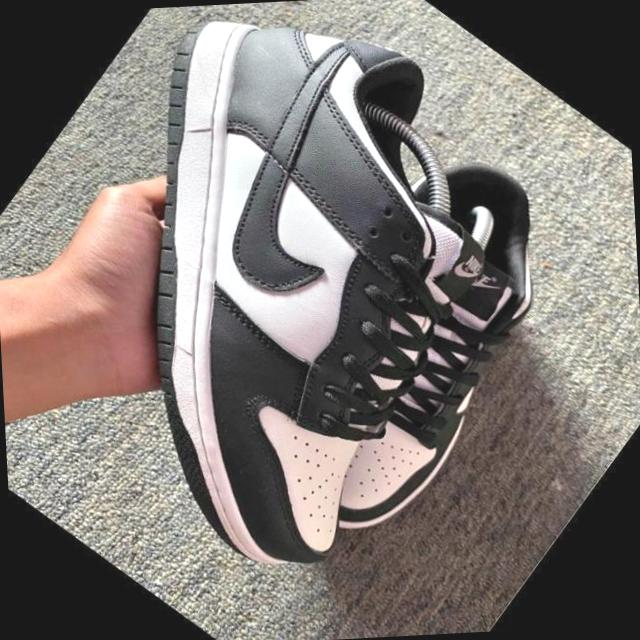nike_original_jordan: (0, 0, 620, 623), (197, 119, 626, 577)
